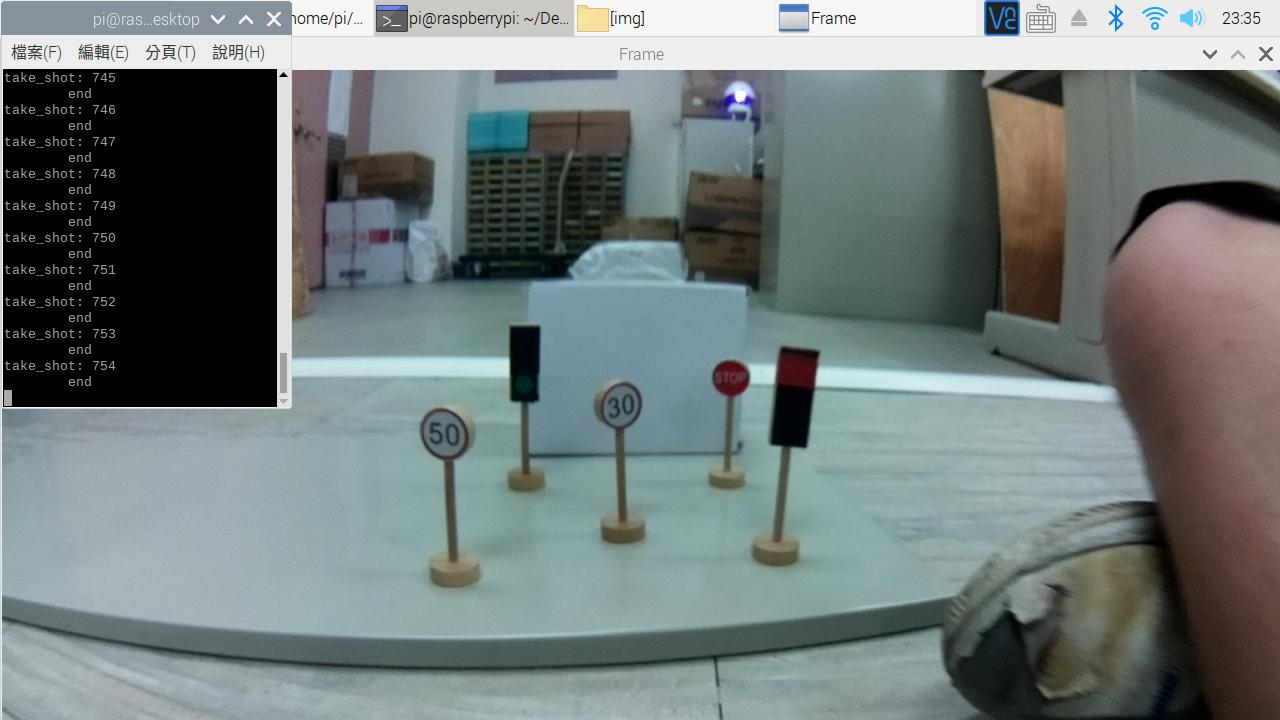Green: (499, 314, 553, 411)
Red: (756, 348, 826, 447)
Speed30: (598, 375, 640, 438)
Speed50: (405, 398, 479, 465)
Stop: (694, 352, 756, 408)
